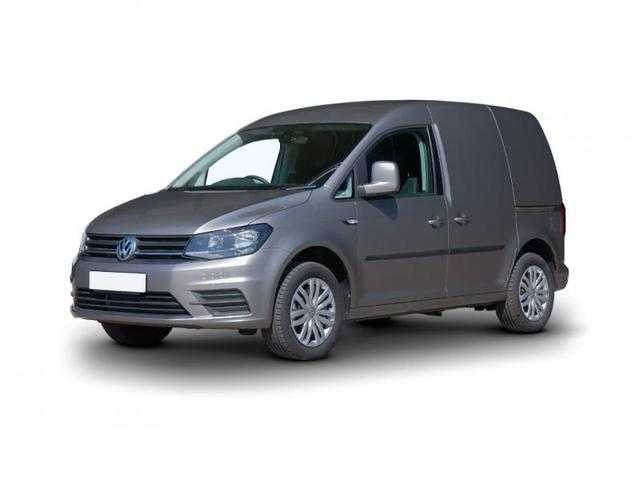van: (69, 100, 569, 361)
